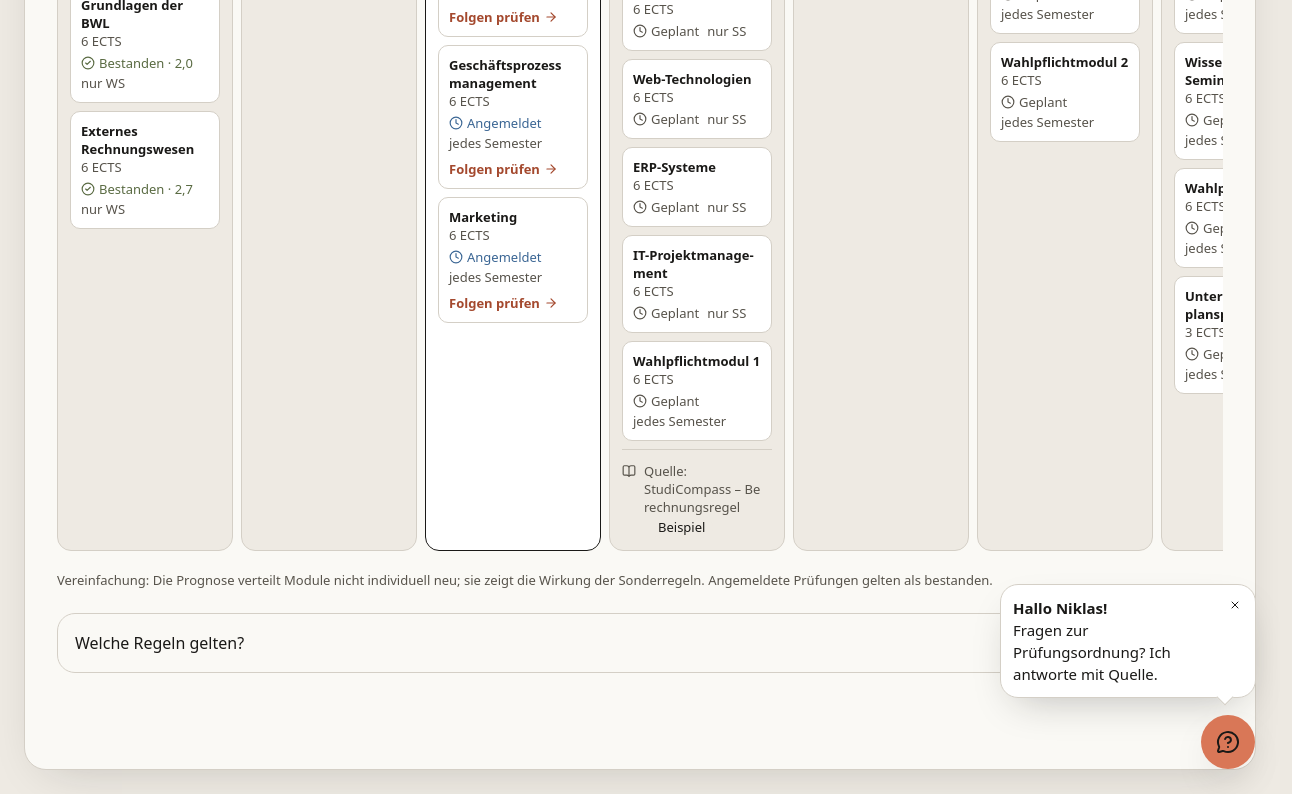
Scenario: Studienverlauf (KONZEPT §8 S2, §10.4) › explains the rules DR-4, DR-6 and DR-7 with sources
(page scrolled)
Click the button "Welche Regeln gelten?" at {"x": 160, "y": 643}, box left=58, top=614, right=1222, bottom=672
(page scrolled)
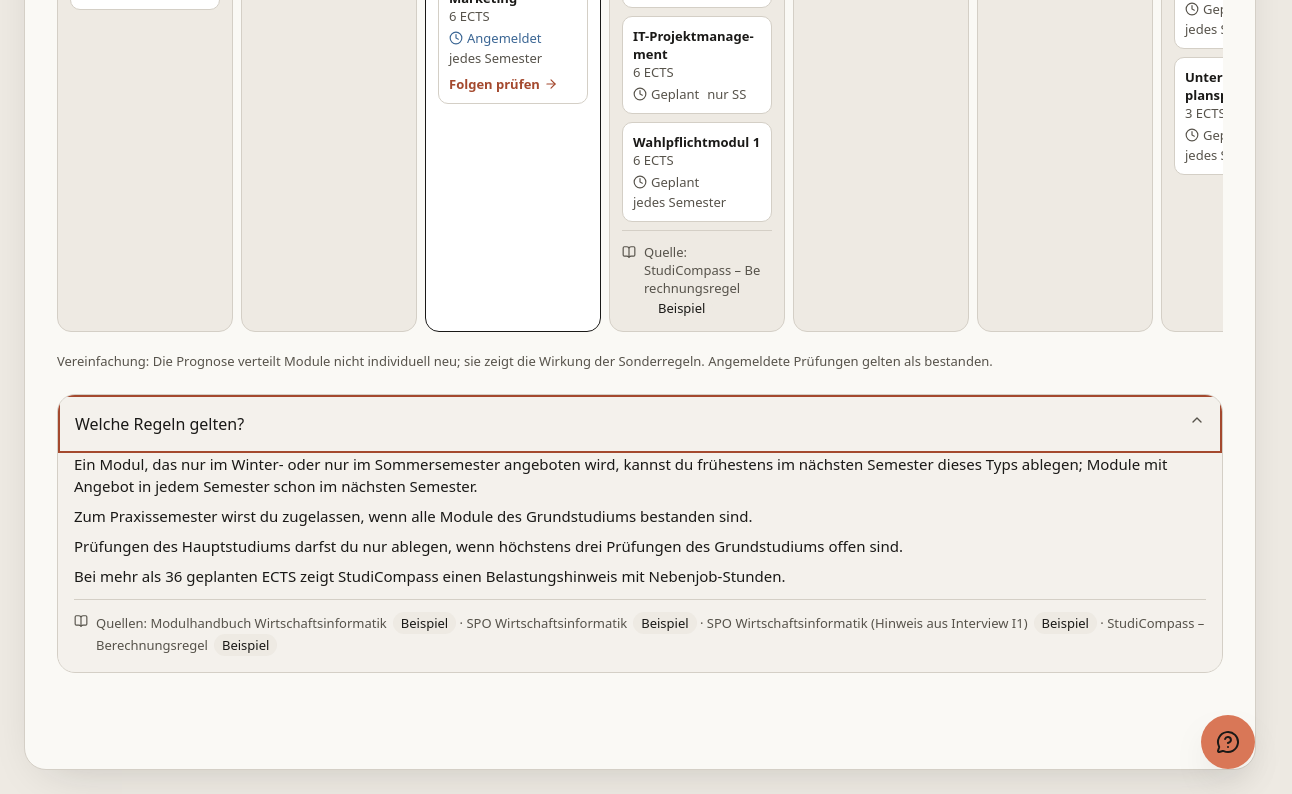
Expected: the element named "Welche Regeln gelten?" shows "frühestens im nächsten Semester dieses Typs", left=74, top=454, right=1167, bottom=496
Expected: the element named "Welche Regeln gelten?" shows "Zum Praxissemester wirst du zugelassen, wenn alle Module des Grundstudiums bestanden sind.", left=74, top=506, right=752, bottom=526
Expected: the element named "Welche Regeln gelten?" shows "höchstens drei Prüfungen des Grundstudiums", left=74, top=536, right=903, bottom=556
